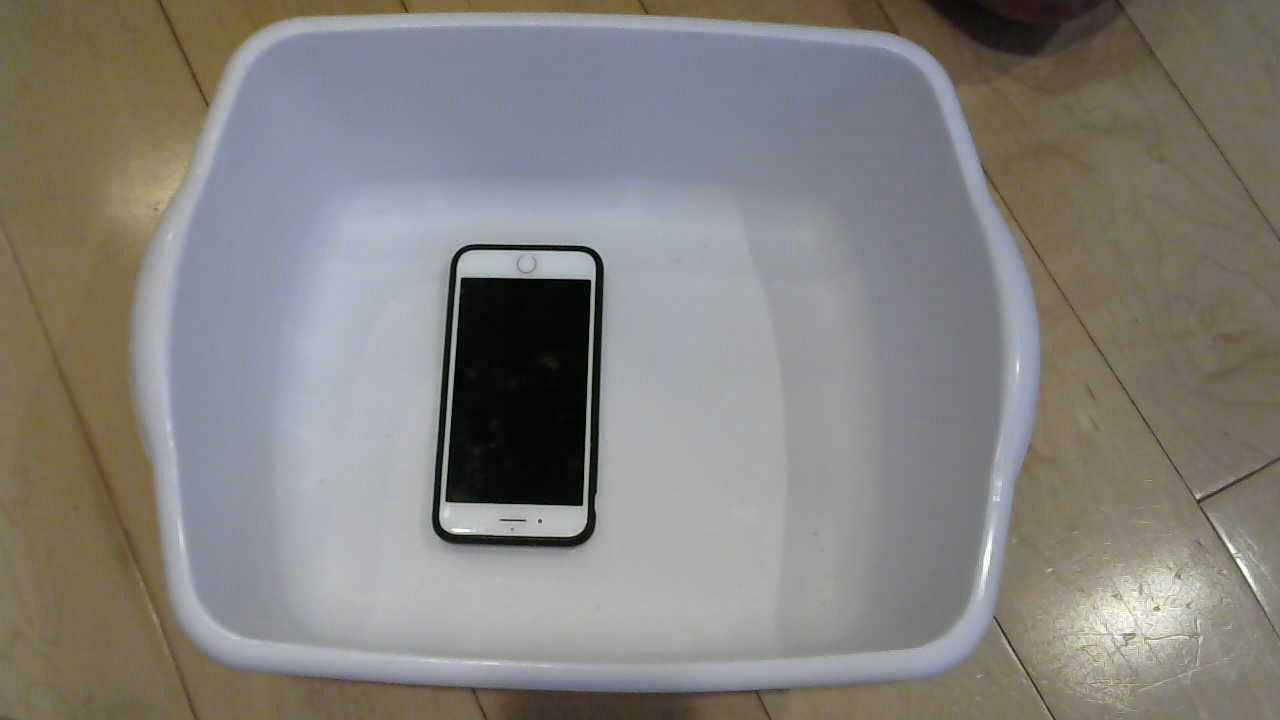phone: (419, 233, 626, 566)
